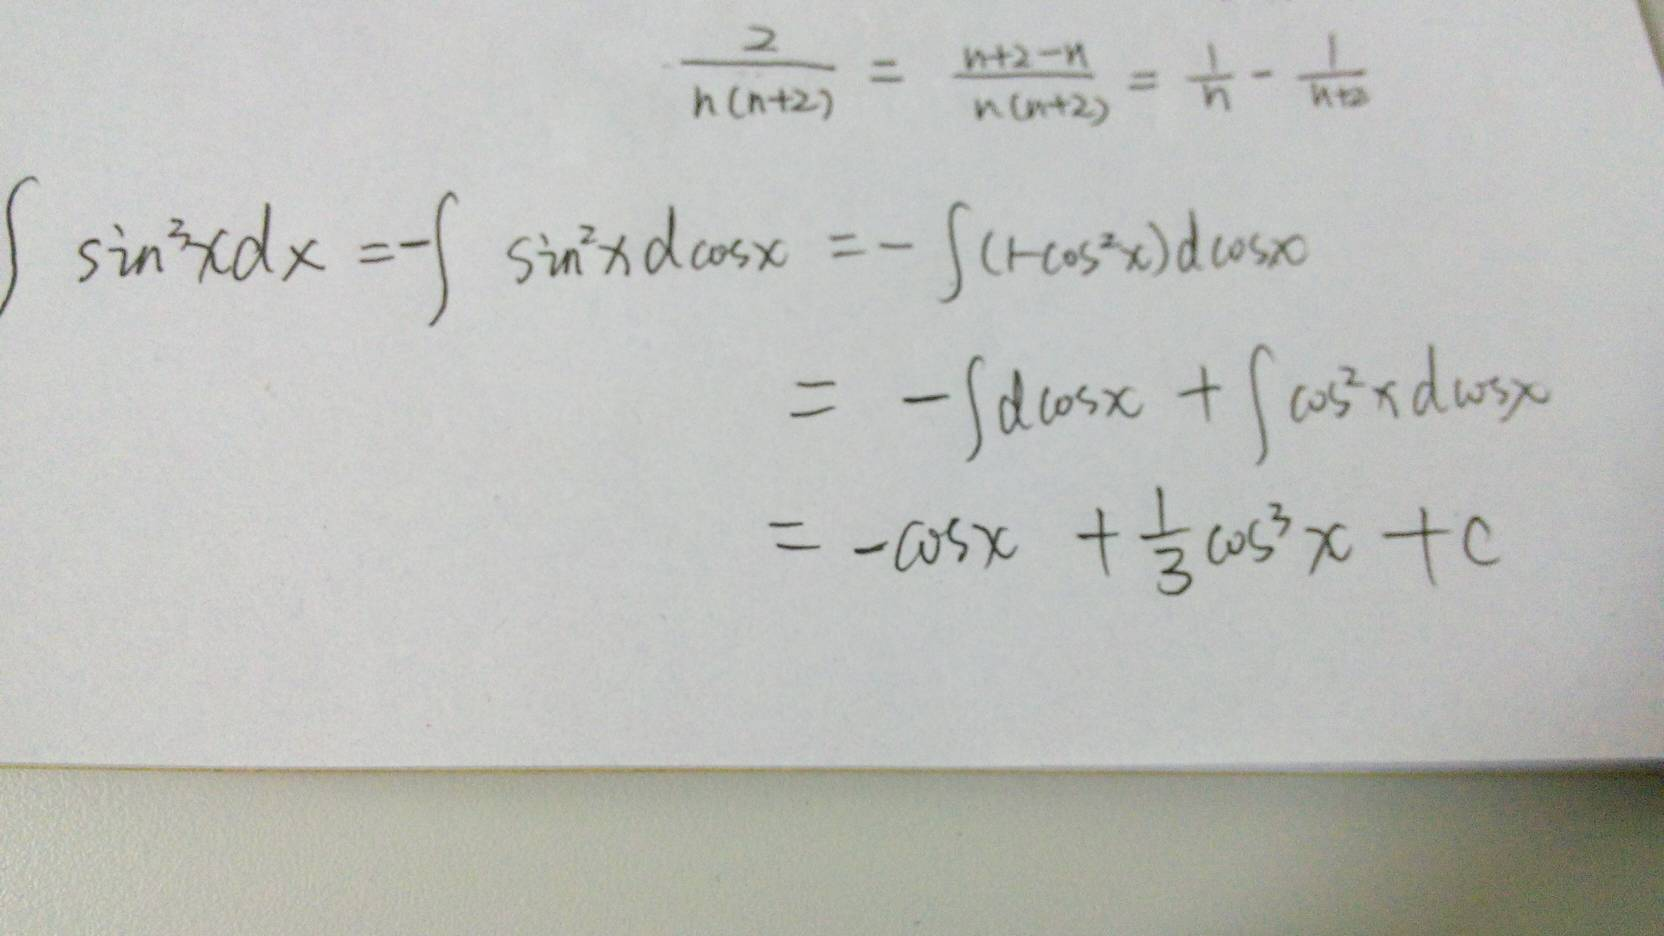cube: (152, 208, 191, 248), (1265, 496, 1293, 543)
